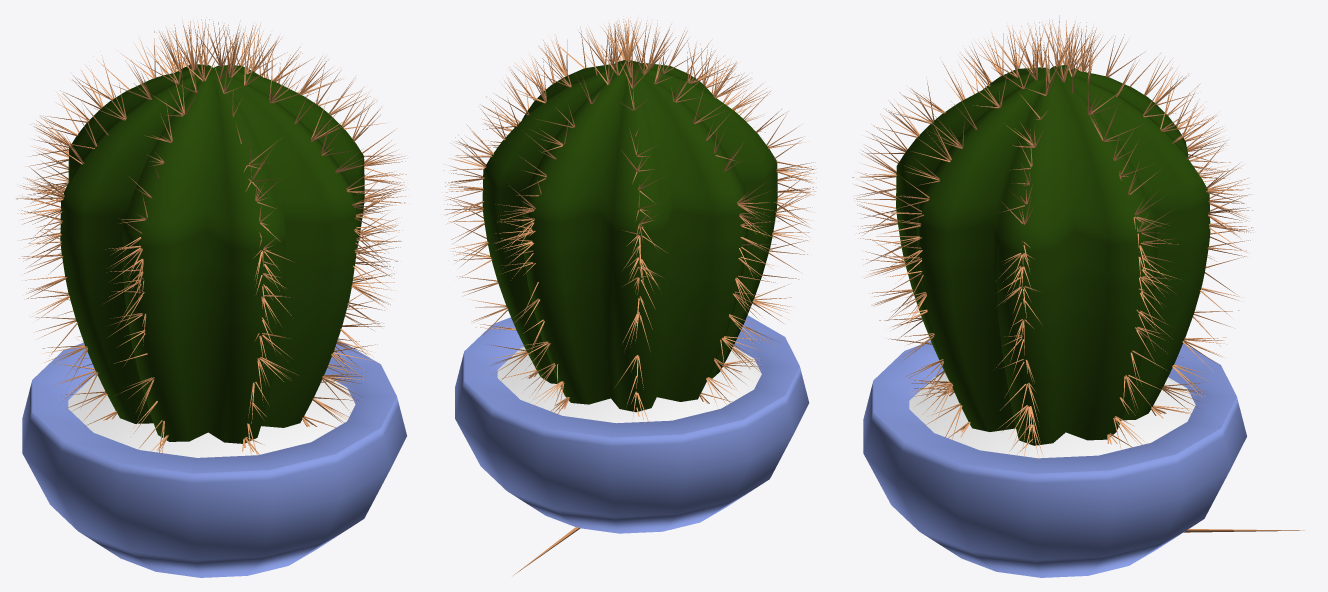
File: Cactus.glb
3 renders of one model, left to right at view 1: azimuth 30°, elevation 25°; view 2: azimuth 150°, elevation 25°; view 3: azimuth 270°, elevation 25°, orthographic. The views are drawn at different scales.
Visible parts, largest first — view 1: Цилиндр.001, Цилиндр; view 2: Цилиндр.001, Цилиндр; view 3: Цилиндр.001, Цилиндр.
Boxes of the visible parts, x1,y1,x2,y2 form: Цилиндр.001: [60, 64, 364, 443]; Цилиндр: [22, 339, 406, 577]; Цилиндр.001: [482, 60, 777, 412]; Цилиндр: [455, 315, 809, 533]; Цилиндр.001: [896, 65, 1210, 445]; Цилиндр: [863, 341, 1246, 577].
Size of the model in its own units: 2.54 by 3.49 by 2.9.
